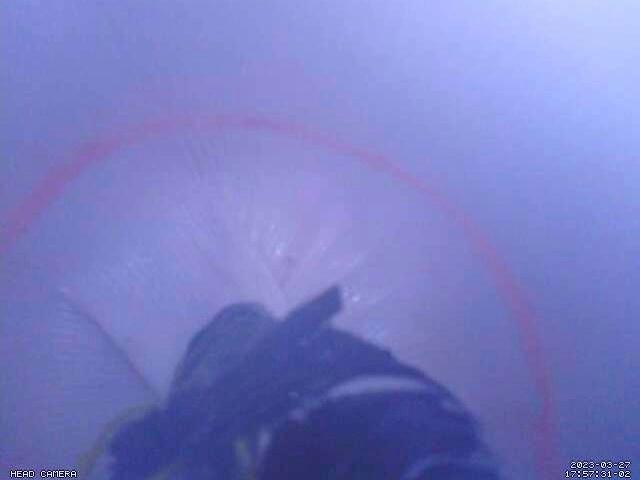head: (0, 110, 563, 480)
